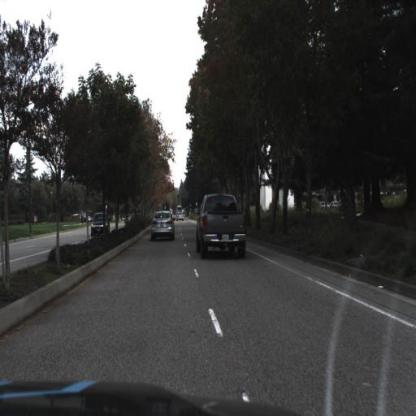car: (193, 188, 251, 266), (152, 209, 176, 240), (89, 210, 111, 236)
